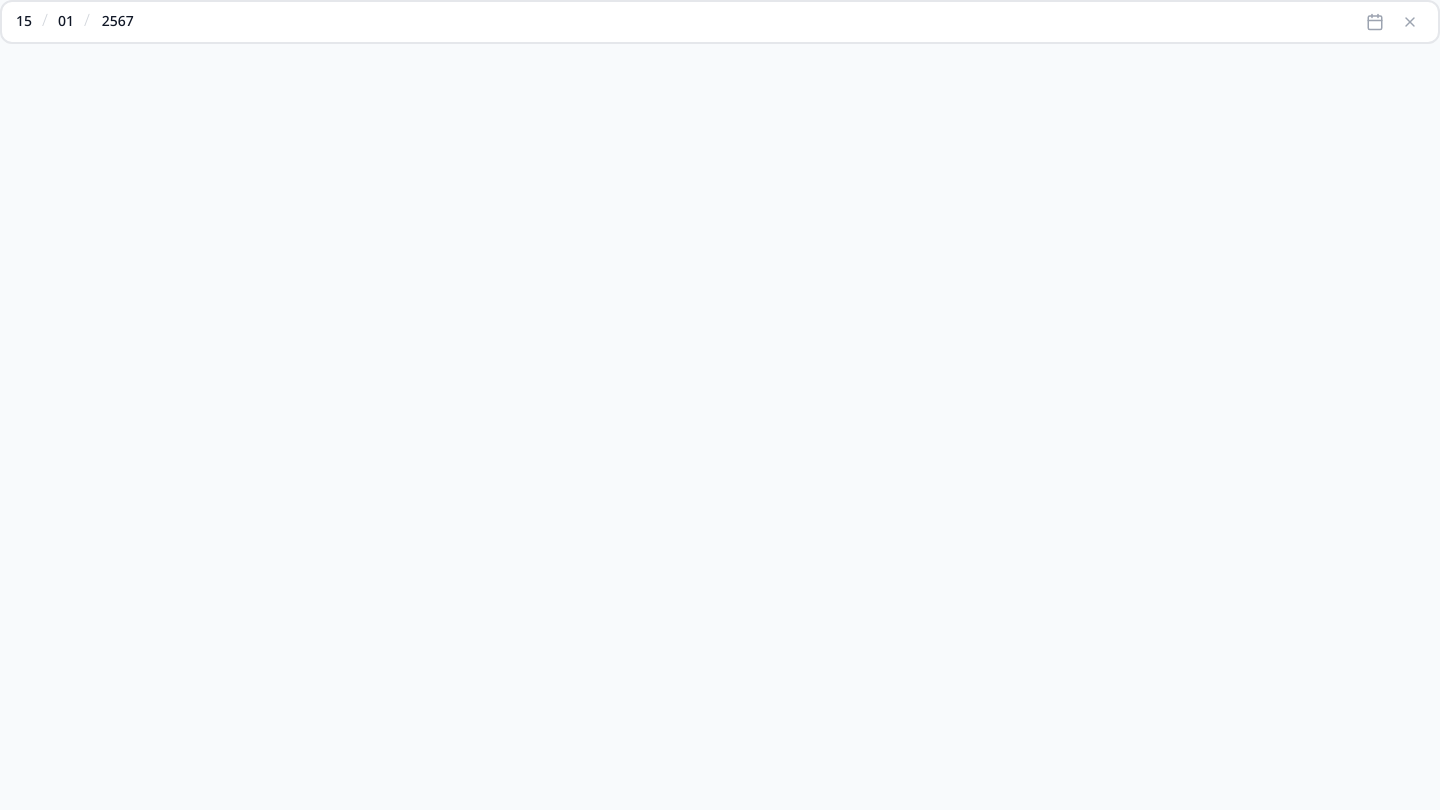
Scenario: CalendarPickerTH › เลือกได้: drills day → month grid → picks a month back to day view
Click the button named "เปิดปฏิทินเลือกวันที่".
click(1375, 22)  # box [1360,7,1390,37]
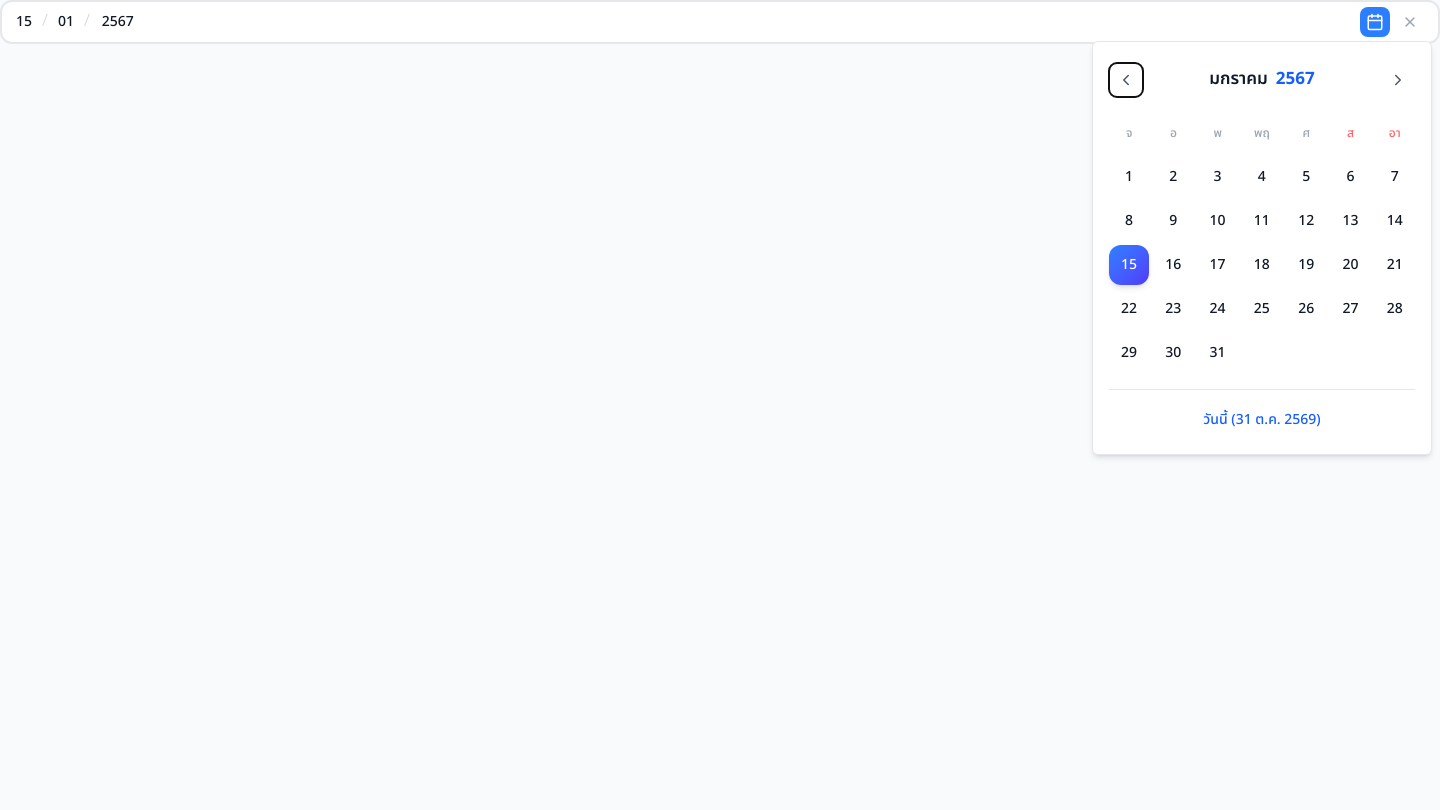
Day view header doubles as the "เลือกเดือน" entry point.
Click the button with aria-label "เลือกเดือน".
click(1262, 80)  # box [1147,58,1377,101]
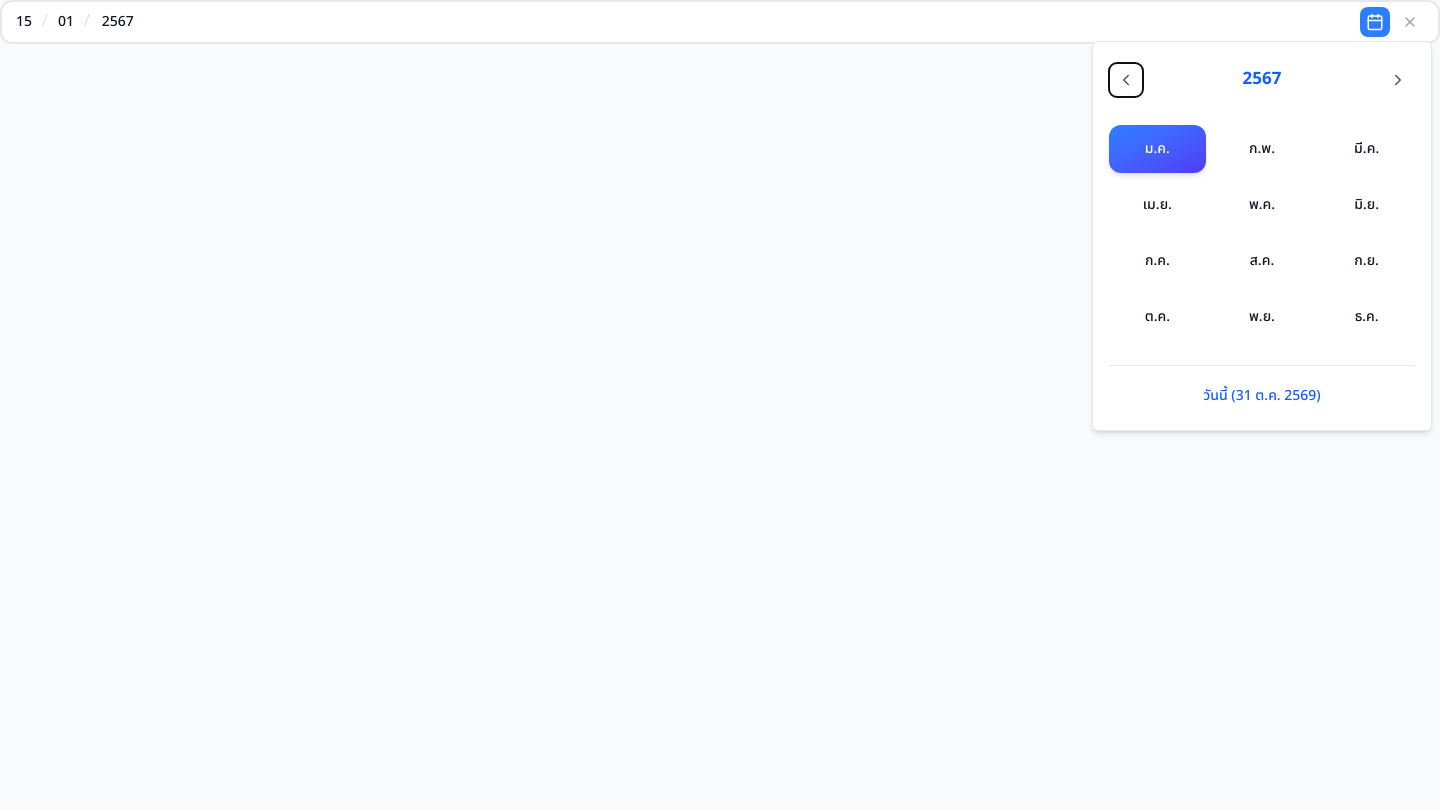
Expected: the button named "มกราคม" is shown, [1109,125,1206,173]
Expected: the button named "ธันวาคม" is shown
Pick a month → returns to day view showing that month.
Click the button named "ธันวาคม".
click(1367, 317)  # box [1318,293,1415,341]
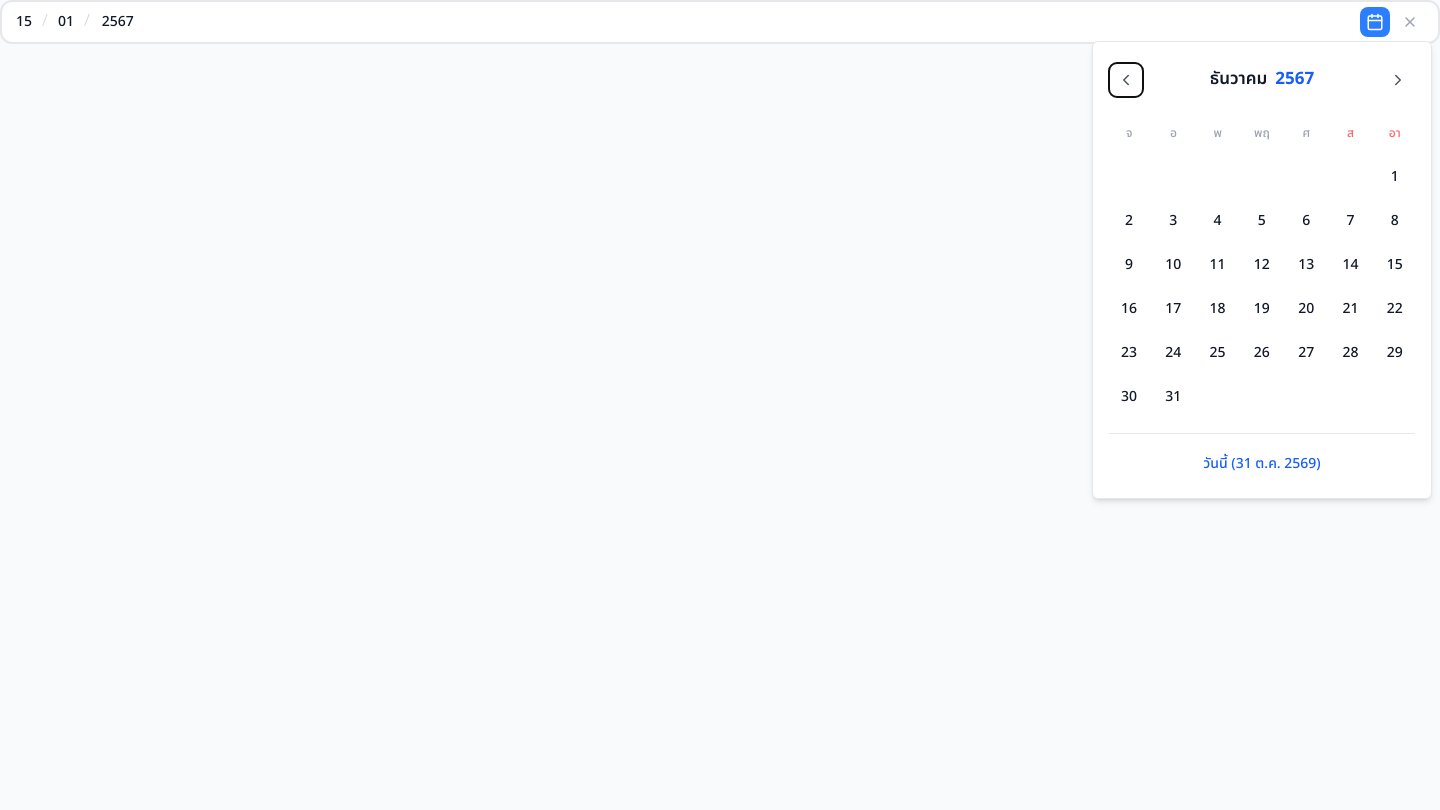
Expected: the button with aria-label "เลือกเดือน" shows "ธันวาคม", [1147,58,1377,101]
